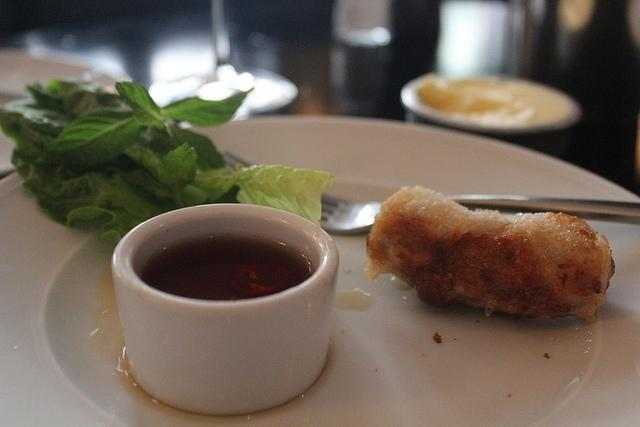lettuce: (1, 106, 225, 242), (196, 164, 334, 227), (33, 107, 148, 171), (140, 140, 199, 208), (3, 98, 77, 128), (63, 90, 100, 117)
